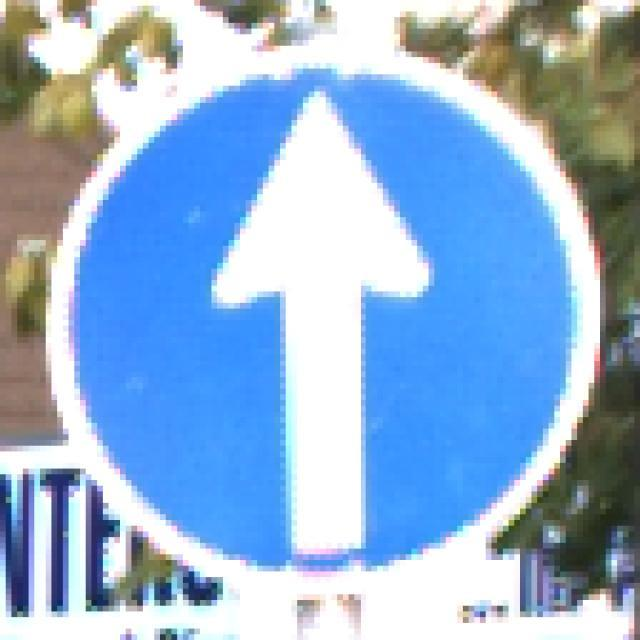compulsary ahead: (64, 61, 586, 572)
